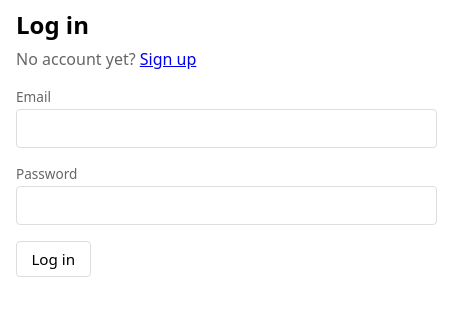
Test: PortalLoginPage › renders a 403 failure in an alert without navigating
Step 1. Type "owner@example.com" into the field labelled "Email" → {"x": 227, "y": 129}, box [16,109,437,148]
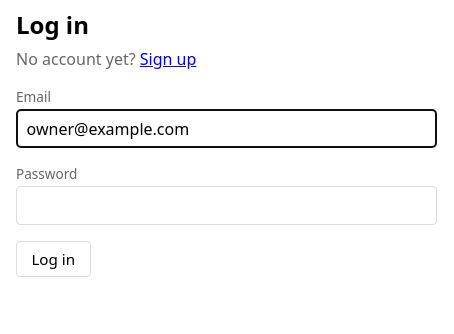
Step 2. Type "wrongpassword" into the password field labelled "Password" → {"x": 227, "y": 205}, box [16,186,437,225]
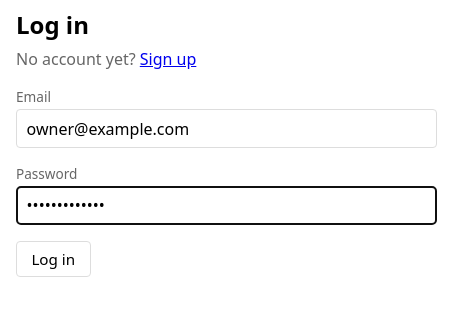
Step 3. Click the button "Log in" → {"x": 53, "y": 259}, box [16,240,90,277]
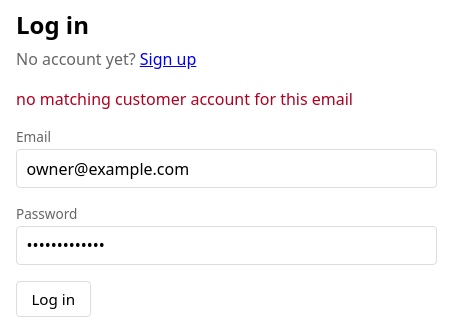
Expected: the message reads "no matching customer account for this email", [16,88,353,110]
